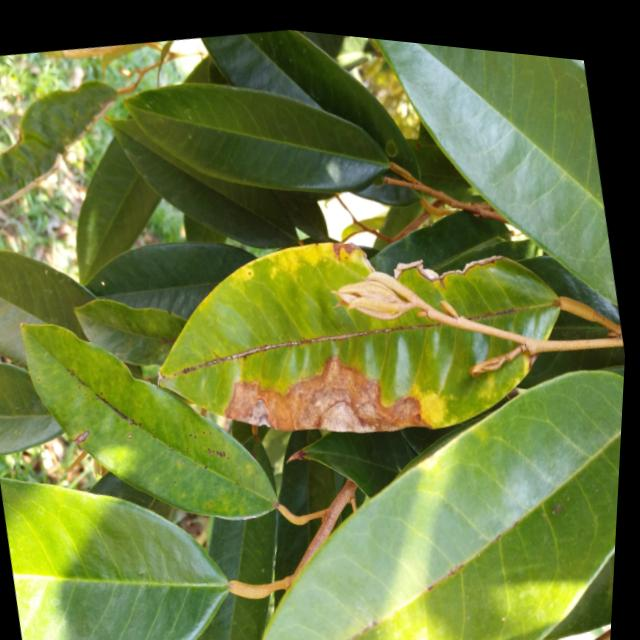Leaf Blight: (218, 313, 461, 473)
